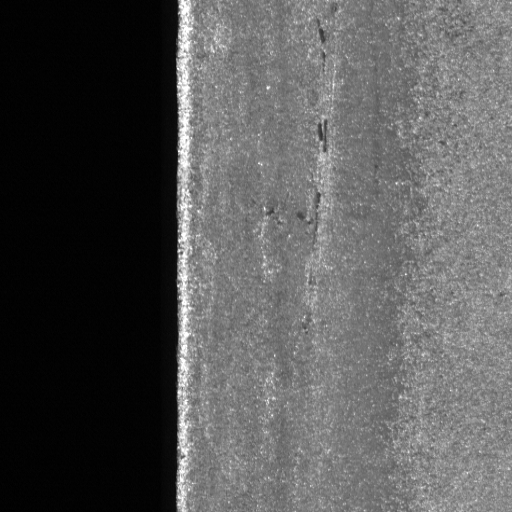zongxianghuashang: (314, 17, 331, 79), (311, 184, 326, 248), (318, 113, 332, 157)
